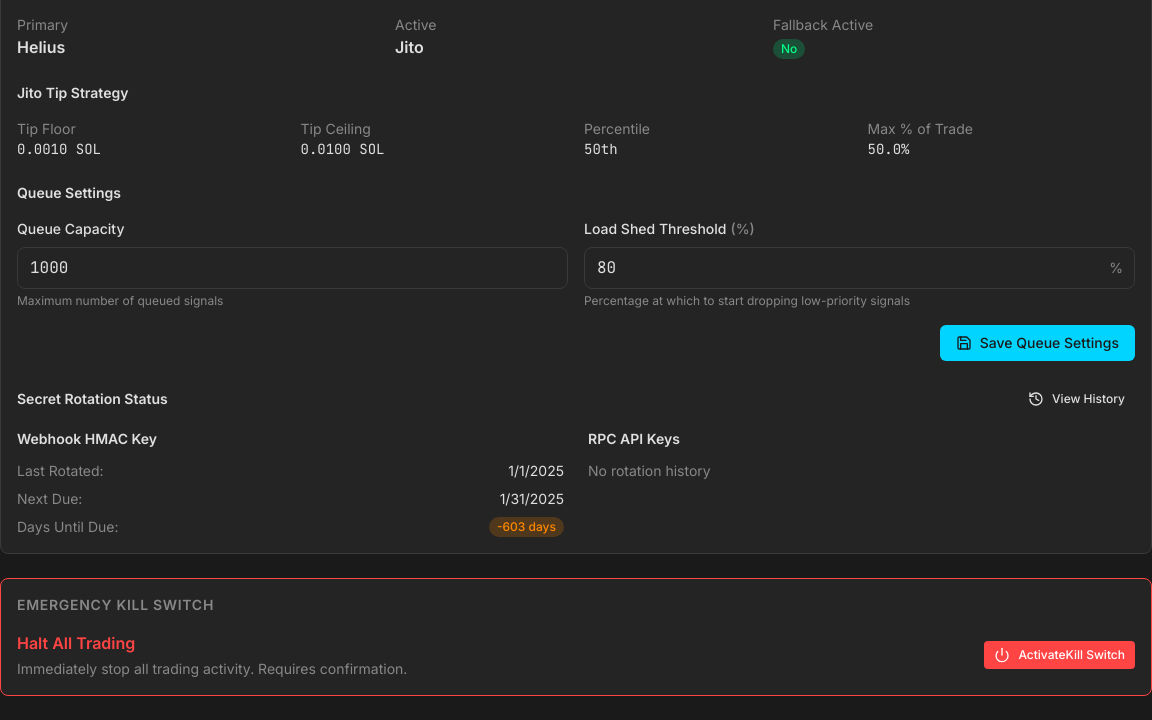
Config › closes the kill switch modal via the close button
(page scrolled)
Step 1. Click the button "Activate Kill Switch" → point(1060, 655), box x1=984 y1=641 x2=1135 y2=669
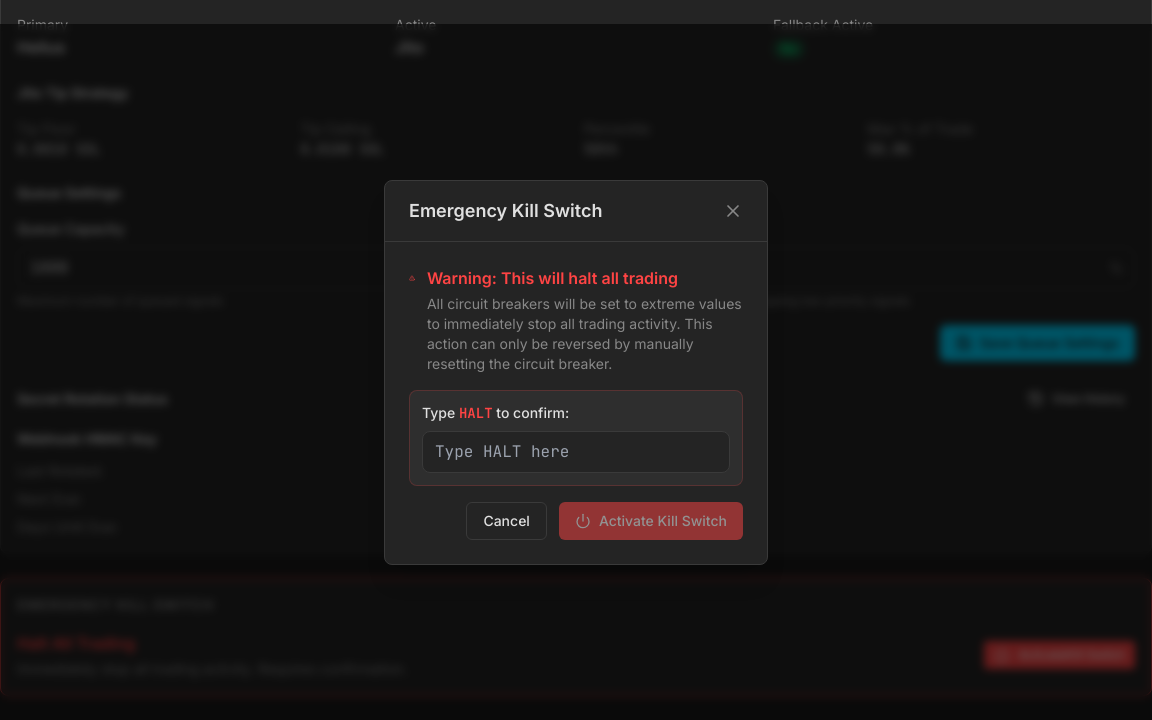
Step 2. Click the button named "Close dialog" → point(733, 210), box x1=723 y1=200 x2=743 y2=220
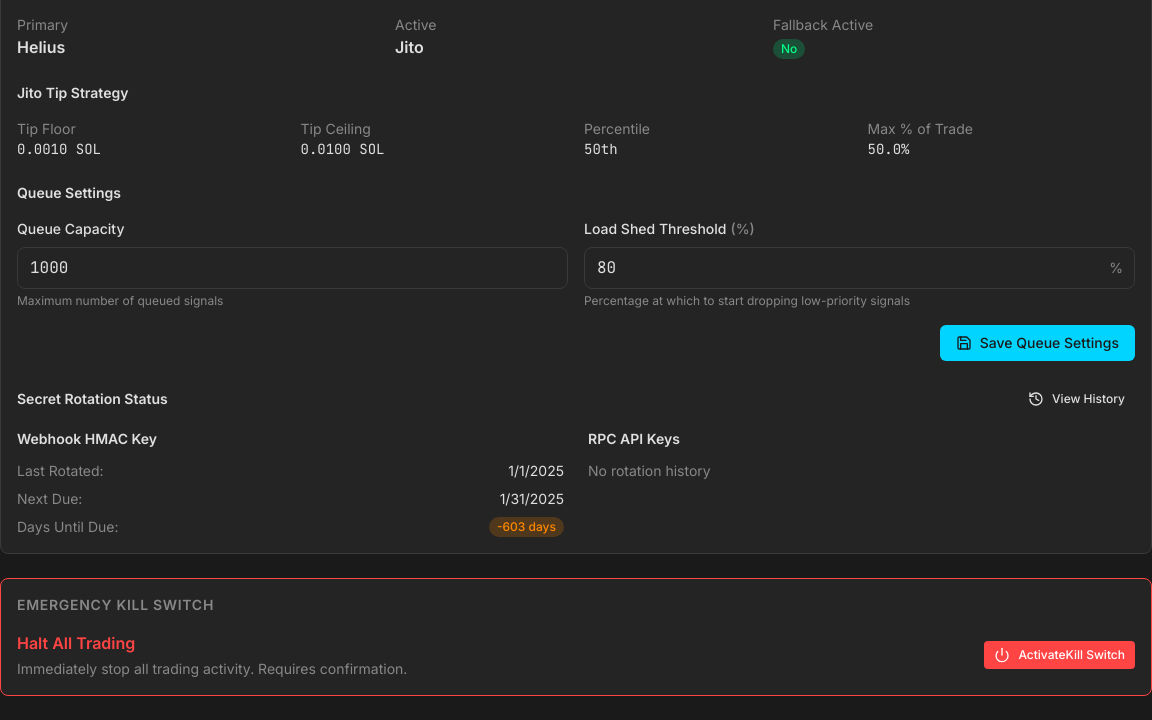
Check: the text "Type" is gone
